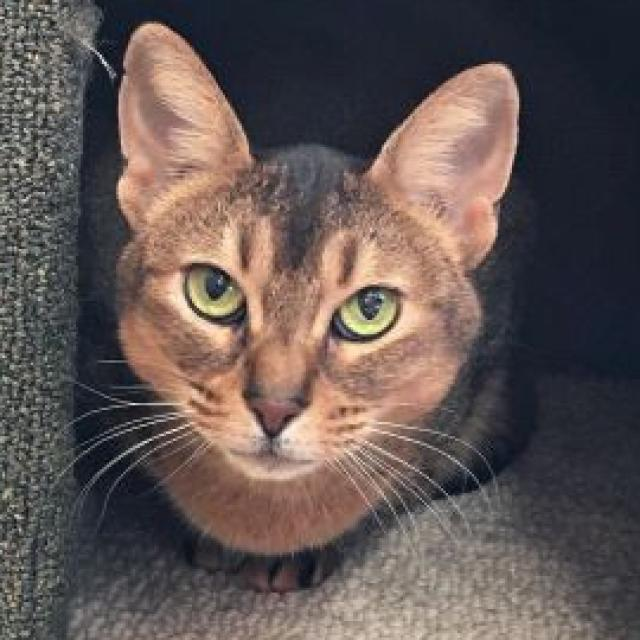Abyssinian: (86, 0, 560, 607)
